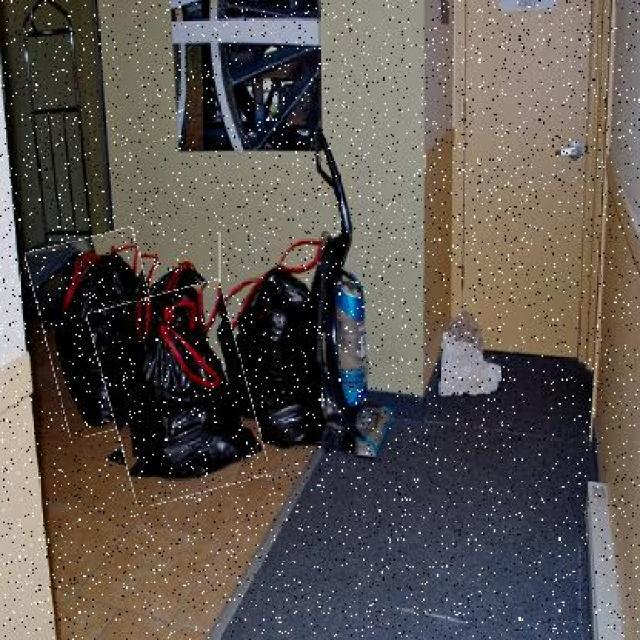waste: (98, 286, 258, 500), (35, 232, 168, 434), (218, 232, 334, 448)
